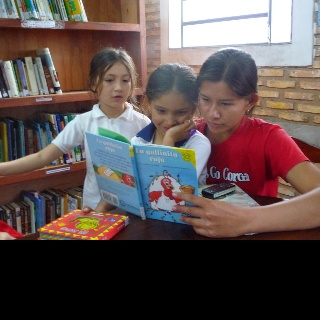without_mask: (197, 80, 246, 135), (151, 90, 193, 136), (94, 61, 132, 108)
